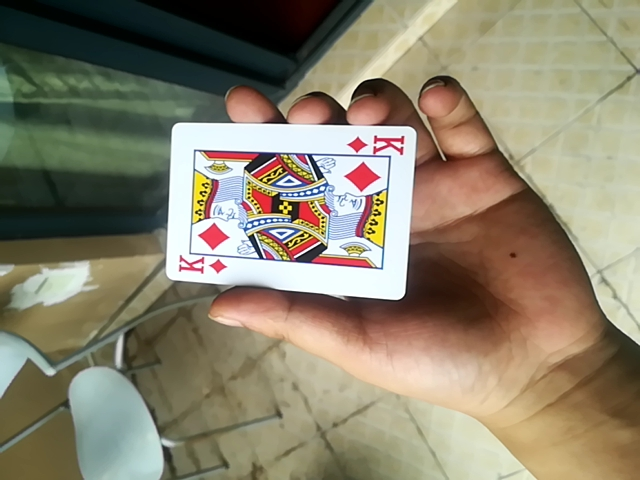fk k: (163, 119, 415, 297)
